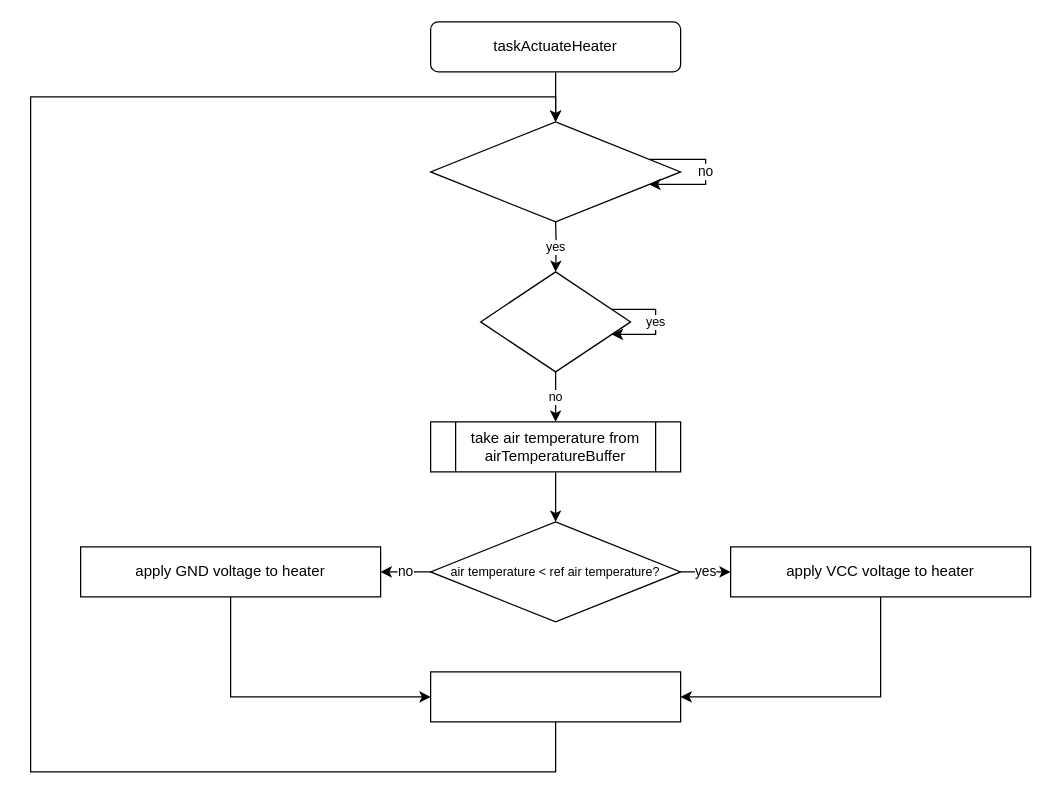
The diagram is 1053 pixels wide and 804 high, and some of its shapes have lost their labels. Here are the shapes that lost their labels. From the top down, the centre of each, then its label:
At (x=555, y=171): "notificationAirTemperatureAcquired pending?".
At (x=555, y=321): "semaphoreAirTemperature locked?".
At (x=555, y=696): "decrement semaphoreAirTemperature".
